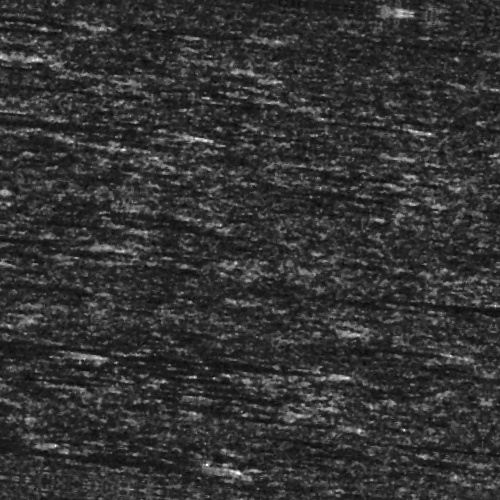object: (26, 34, 131, 43), (134, 135, 207, 146), (25, 456, 98, 465), (15, 396, 98, 403), (57, 363, 120, 372), (236, 33, 299, 42), (0, 341, 55, 350), (0, 277, 32, 290), (79, 256, 142, 261), (0, 67, 22, 80), (351, 0, 434, 3), (344, 361, 375, 368), (377, 110, 418, 115), (394, 184, 435, 189), (431, 332, 472, 337), (356, 414, 397, 419), (165, 467, 218, 470), (0, 304, 12, 309)
shadow: (0, 361, 359, 368), (0, 135, 171, 146), (126, 33, 268, 42), (362, 487, 500, 494), (411, 280, 500, 289), (0, 363, 88, 372), (0, 34, 78, 43), (270, 110, 397, 115), (289, 184, 414, 189), (330, 332, 451, 337), (0, 467, 191, 470), (0, 456, 62, 465), (0, 256, 110, 261), (256, 0, 393, 3), (0, 396, 57, 403), (315, 414, 376, 419), (0, 341, 18, 350)
